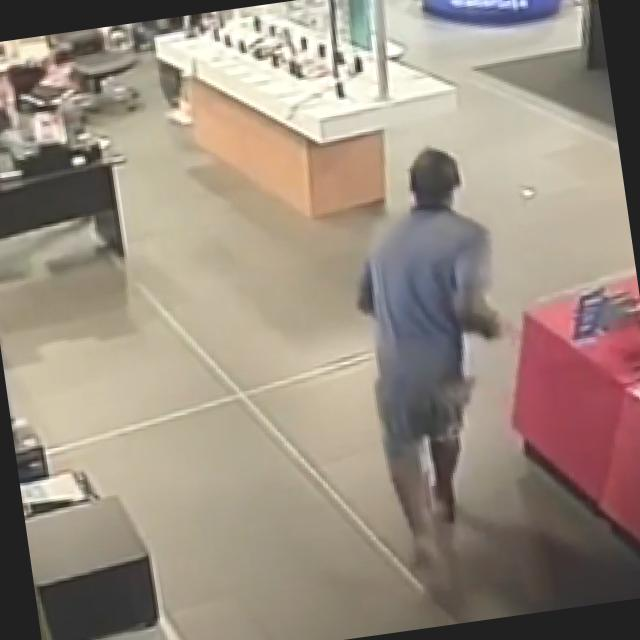person: (335, 138, 538, 580)
